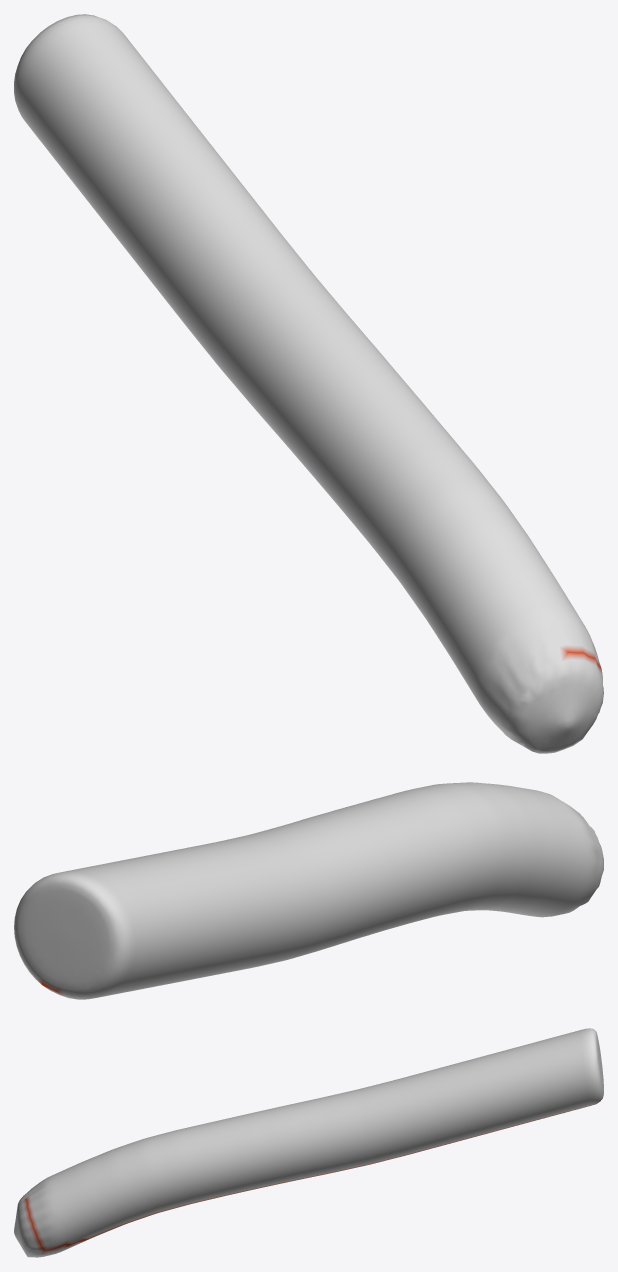
Rendered from s_buckle_center_02.fbx.
3 renders of one model, top to bottom at view 1: azimuth 30°, elevation 25°; view 2: azimuth 150°, elevation 25°; view 3: azimuth 270°, elevation 25°, orthographic. The views are drawn at different scales.
Parts seen in each view (by area): view 1: buckle_center_02; view 2: buckle_center_02; view 3: buckle_center_02.
Boxes of the visible parts, box(x1,y1,x2,y2) form: buckle_center_02: box(14, 14, 603, 753); buckle_center_02: box(14, 782, 603, 999); buckle_center_02: box(14, 1028, 603, 1257).
Bounding box in the file's own units: 0.0174 × 0.0552 × 0.1325.
